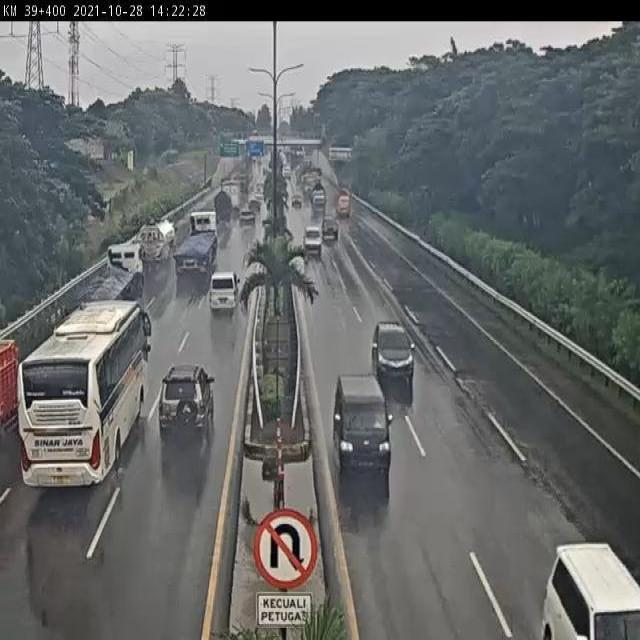bus-l-: (18, 300, 152, 492)
car: (331, 372, 393, 472), (156, 365, 216, 440), (206, 267, 241, 316)
truck-m-: (137, 213, 177, 263)
truck-xl-: (68, 241, 146, 324), (173, 208, 221, 276)
